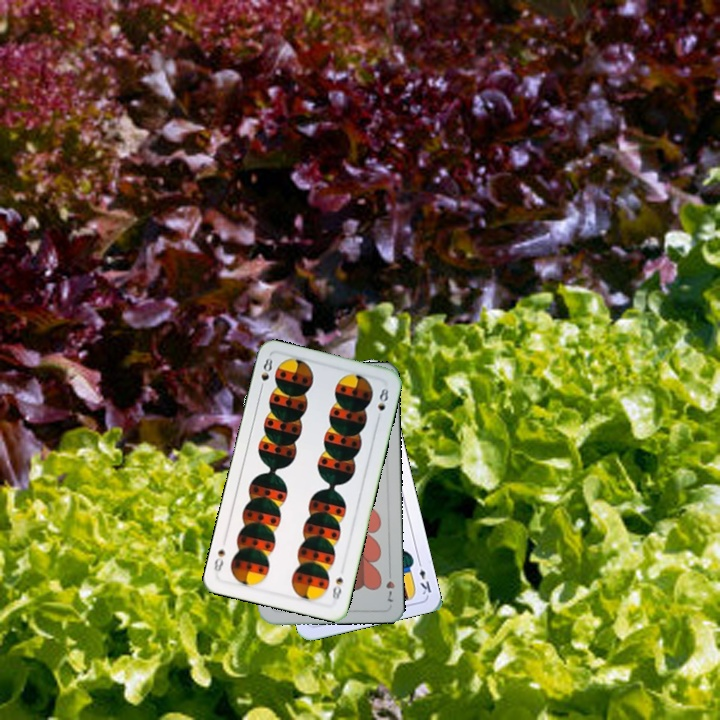EK: (414, 556, 434, 597)
H7: (382, 566, 397, 604)
S8: (256, 354, 275, 394), (328, 573, 346, 606)
